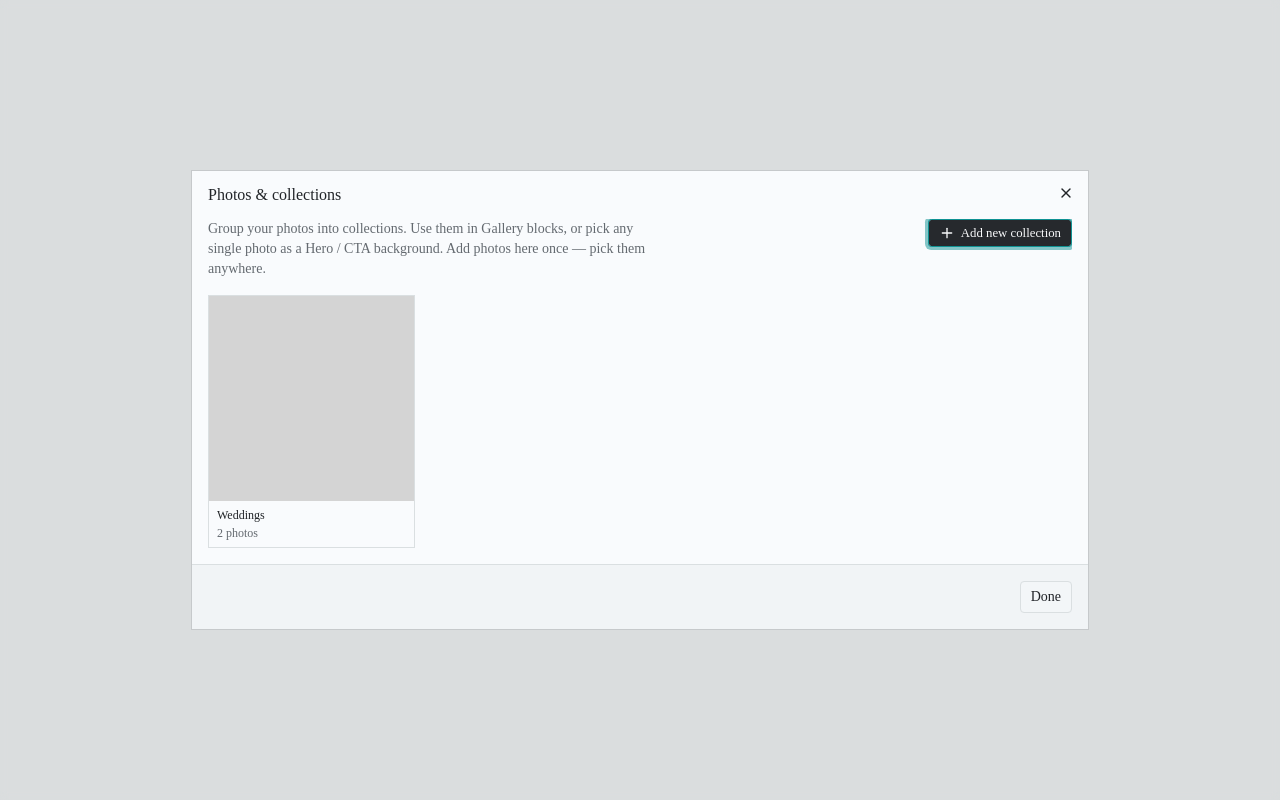
Test: CollectionsManagerDialog edit › replaces the manager contents with collection editing in the same shell and supports Back
Click the button with aria-label "edit weddings".
click(312, 422)  # box [209,296,414,547]
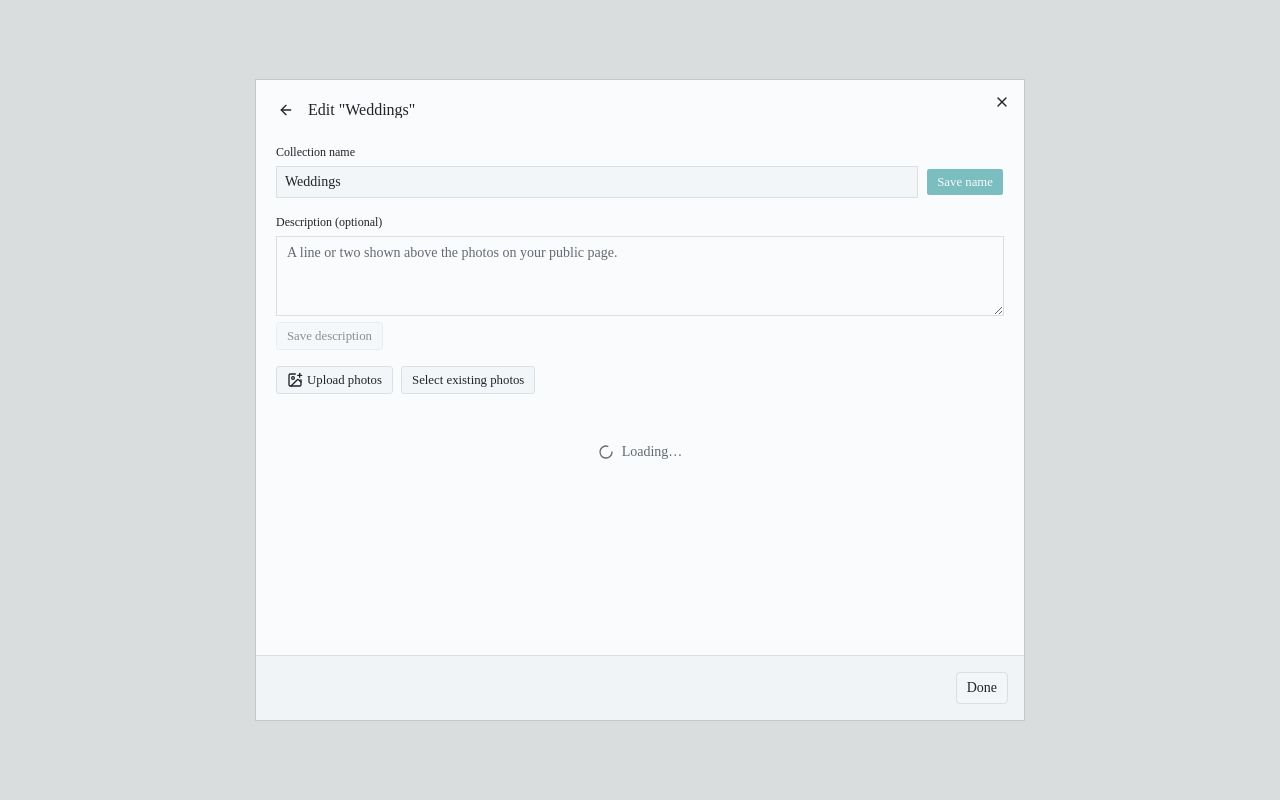
Check: the number of dialogs is 1, box [256,80,1024,720]
Check: the field labelled "Collection name" is shown, box [276,166,918,198]
Check: the heading "Photos & collections" is gone
Click the button named "back to photos and collections".
click(286, 110)  # box [272,96,300,124]
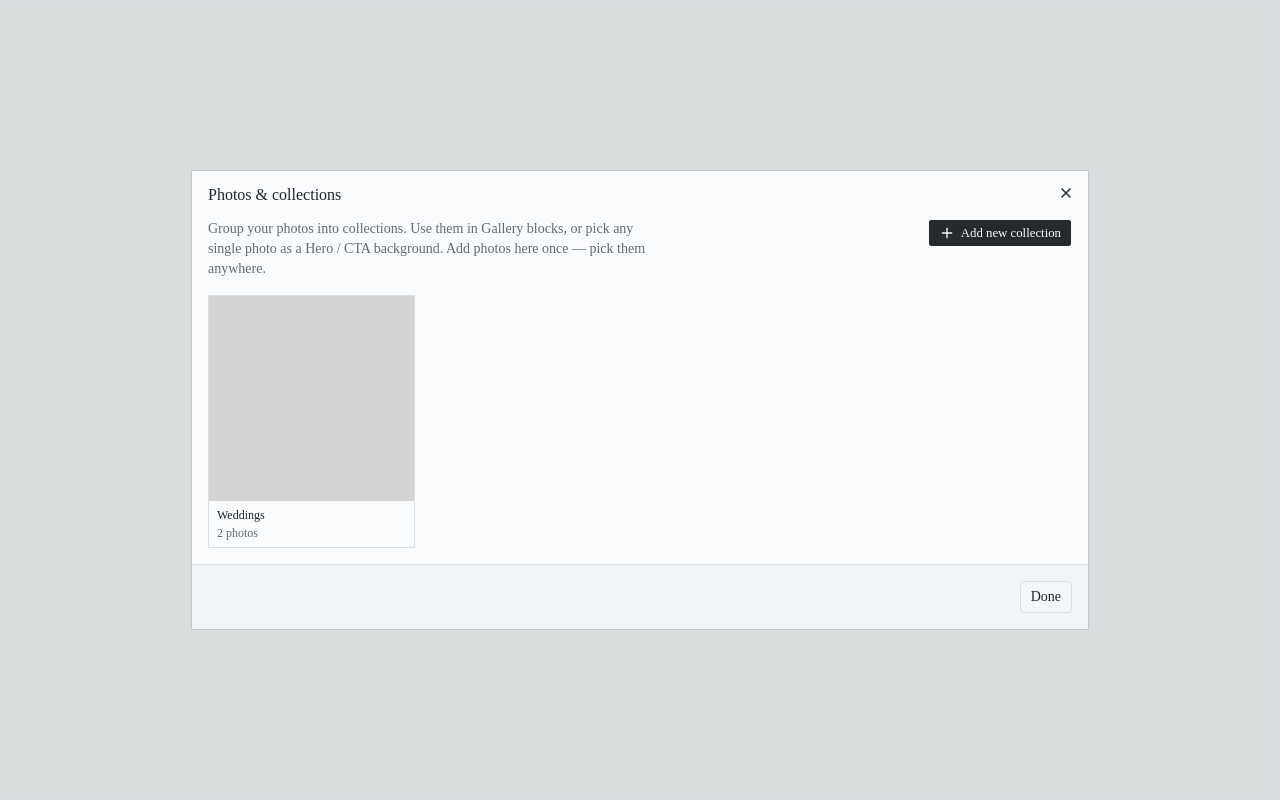
Check: the heading "Photos & collections" is shown, box [208,186,341,203]
Check: the label labelled "Collection name" is gone
